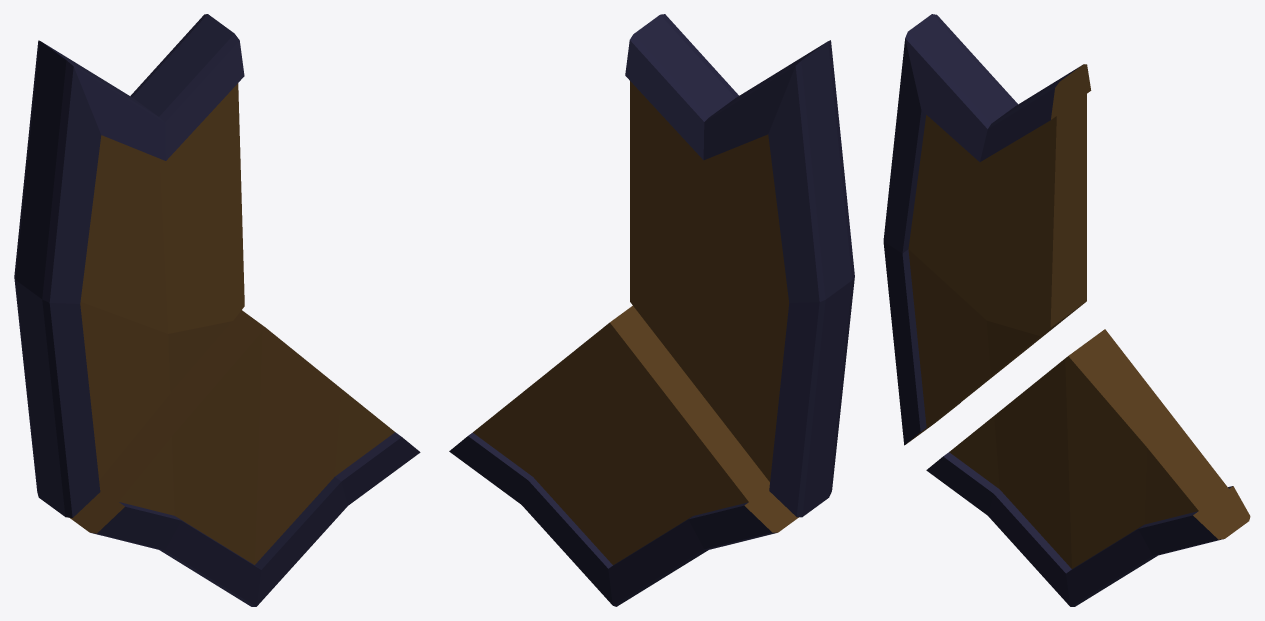
The model's file is Shield02.fbx.
3 renders of one model, left to right at view 1: azimuth 30°, elevation 25°; view 2: azimuth 150°, elevation 25°; view 3: azimuth 330°, elevation 25°, orthographic. The views are drawn at different scales.
Parts seen in each view (by area): view 1: Armor.001; view 2: Armor.001; view 3: Armor.001.
Boxes of the visible parts, box(x1,y1,x2,y2) form: Armor.001: box(14, 14, 420, 606); Armor.001: box(449, 14, 854, 606); Armor.001: box(883, 14, 1250, 606).
Bounding box in the file's own units: 235 × 353 × 49.37.
